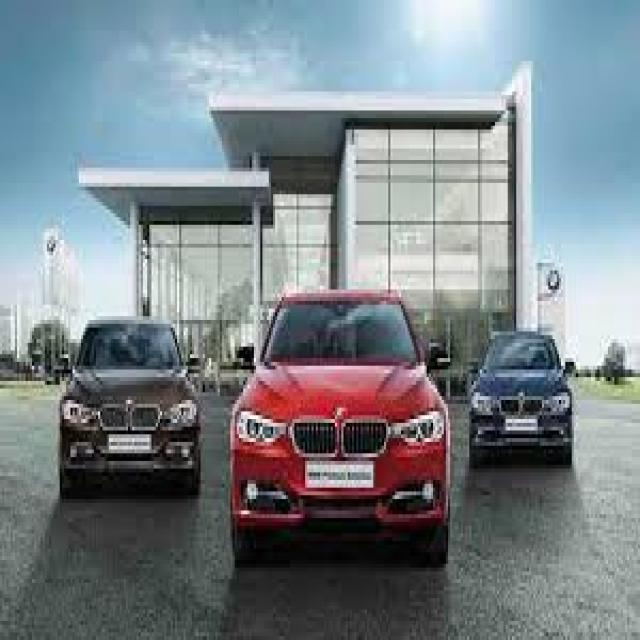car: (234, 298, 451, 559), (63, 317, 201, 488), (467, 329, 577, 474)
